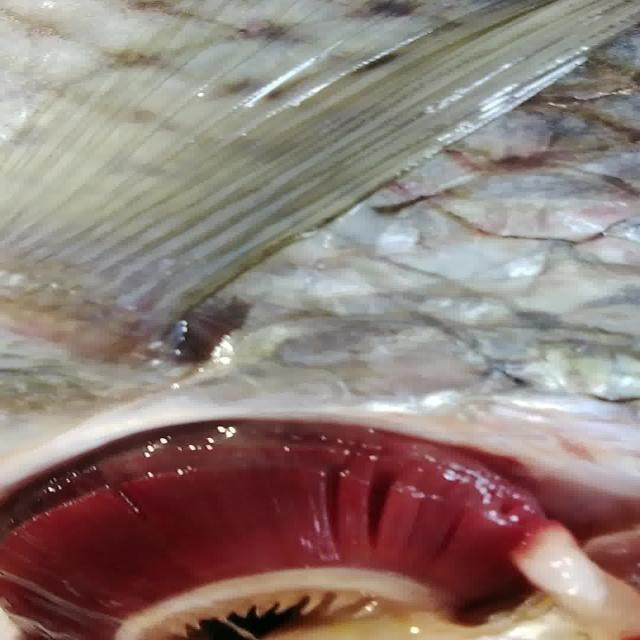Fresh: (2, 399, 571, 633)
